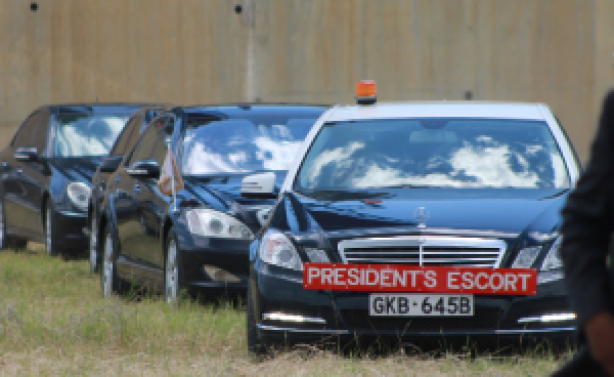licencePlate: (369, 292, 476, 319)
